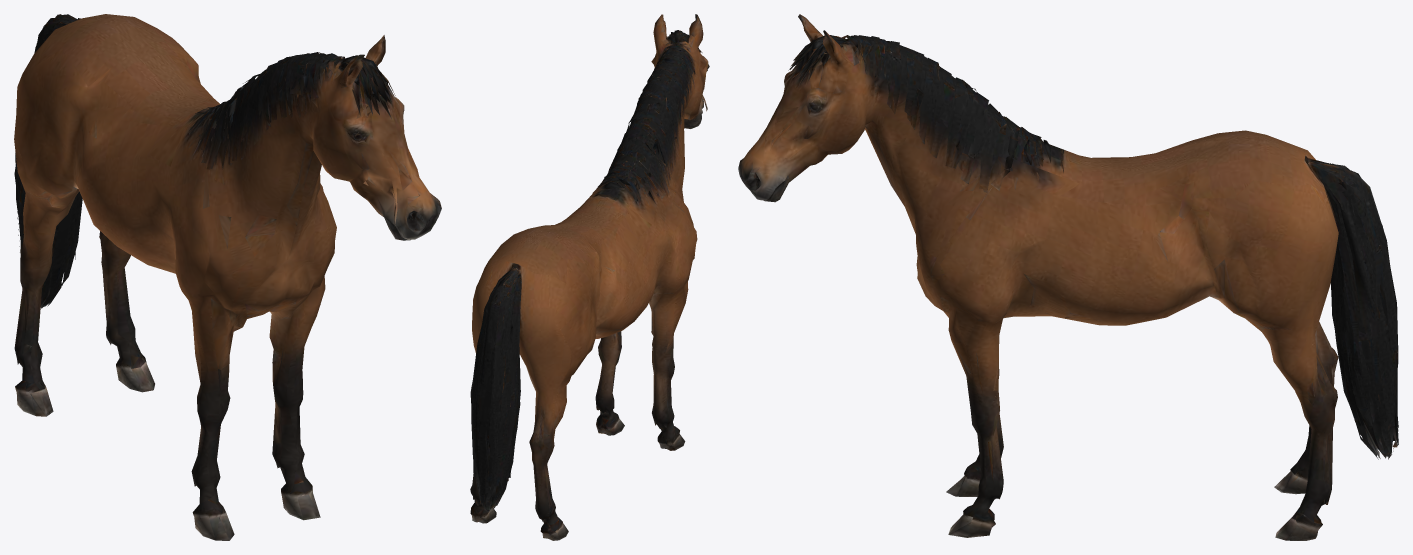
The model's file is mount_legacy_bay_horse_1.glb.
The picture shows the model from 3 angles, left to right: view 1: azimuth 30°, elevation 25°; view 2: azimuth 150°, elevation 25°; view 3: azimuth 270°, elevation 25°; orthographic projection. The views are drawn at different scales.
Visible parts, largest first — view 1: MeshyGear_mount_legacy_bay_horse; view 2: MeshyGear_mount_legacy_bay_horse; view 3: MeshyGear_mount_legacy_bay_horse.
Part boxes in pixels (box(x1,y1,x2,y2)): MeshyGear_mount_legacy_bay_horse: box(14, 14, 441, 540); MeshyGear_mount_legacy_bay_horse: box(470, 14, 709, 540); MeshyGear_mount_legacy_bay_horse: box(738, 14, 1398, 540).
Size of what is drawn, in the model's own units: 0.512 by 1.7 by 2.02.
1 material, 1 textured.
